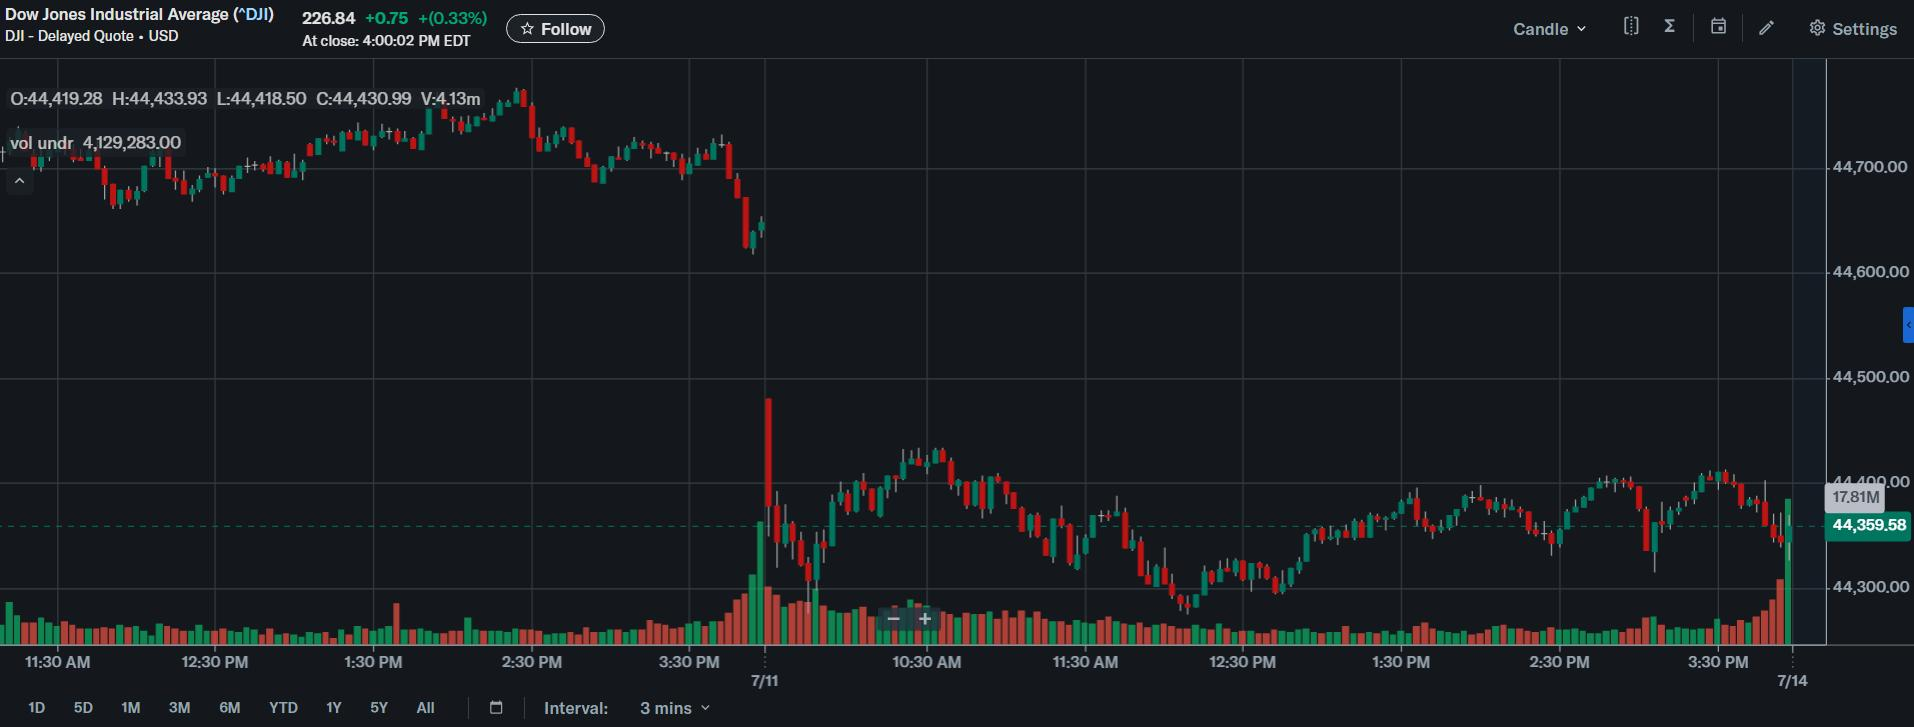Downtrend: (930, 440, 1055, 565), (760, 394, 813, 587), (1110, 494, 1188, 617), (723, 143, 760, 256)
Sideways: (1291, 466, 1814, 598)
